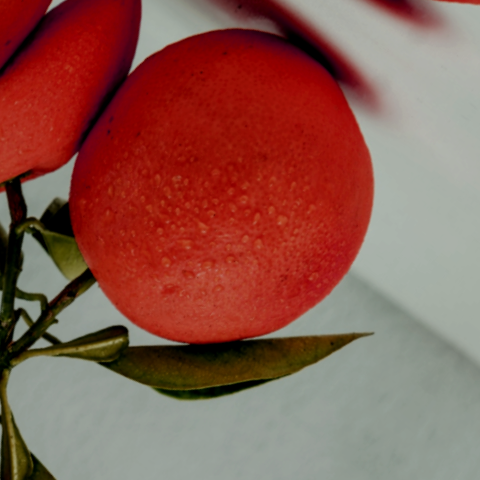orange: (0, 0, 474, 453)
